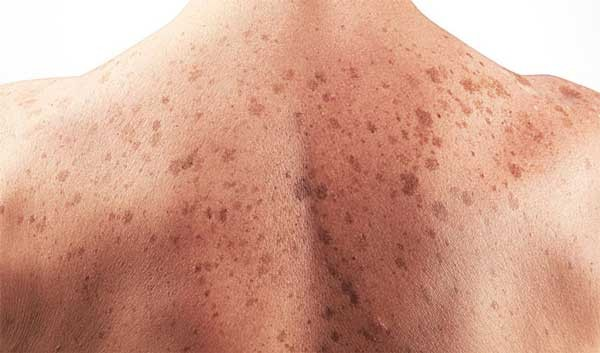melanoma: (77, 48, 467, 353)
